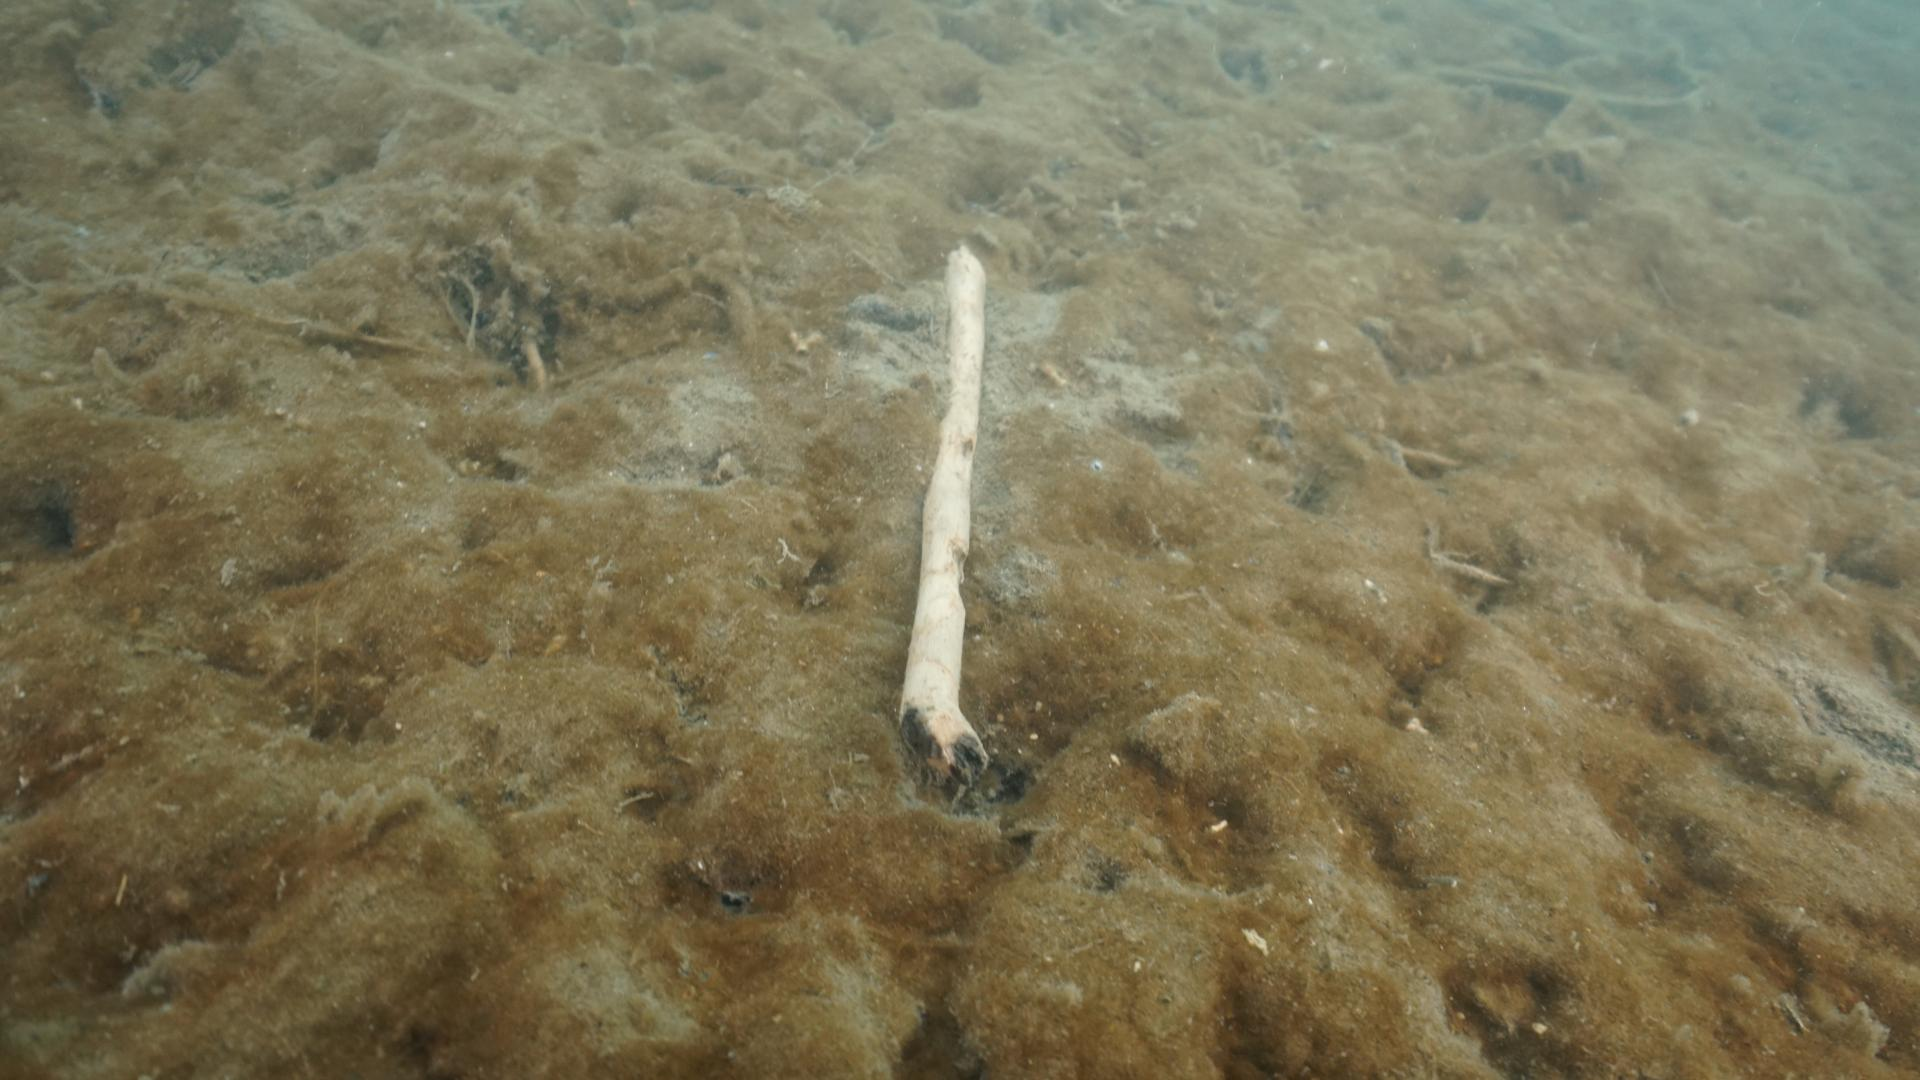wood: (881, 243, 984, 800)
